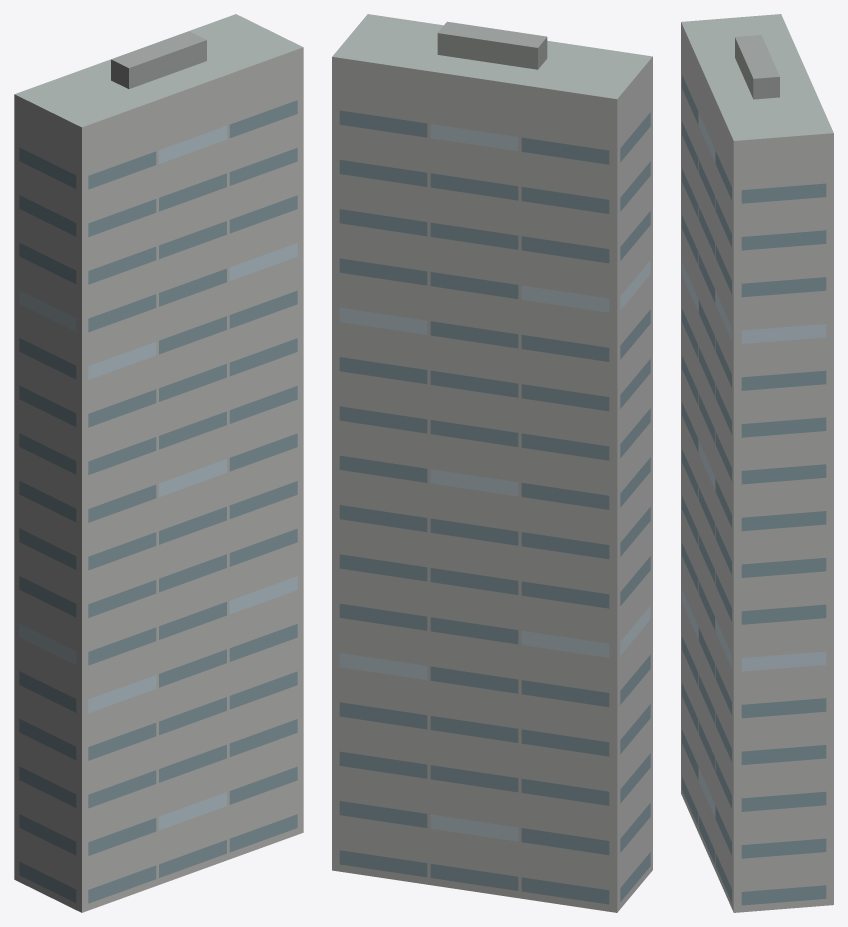
File: fallback-jamsil-parkrio-110.glb
3 renders of one model, left to right at view 1: azimuth 30°, elevation 25°; view 2: azimuth 150°, elevation 25°; view 3: azimuth 270°, elevation 25°, orthographic. The views are drawn at different scales.
Parts seen in each view (by area): view 1: fallback-jamsil-parkrio-110; view 2: fallback-jamsil-parkrio-110; view 3: fallback-jamsil-parkrio-110.
Part boxes in pixels (<box>): fallback-jamsil-parkrio-110: <box>14,14,303,912</box>; fallback-jamsil-parkrio-110: <box>332,14,652,912</box>; fallback-jamsil-parkrio-110: <box>681,14,833,912</box>.
Size of the model in its own units: 31.63 by 92 by 16.07.
